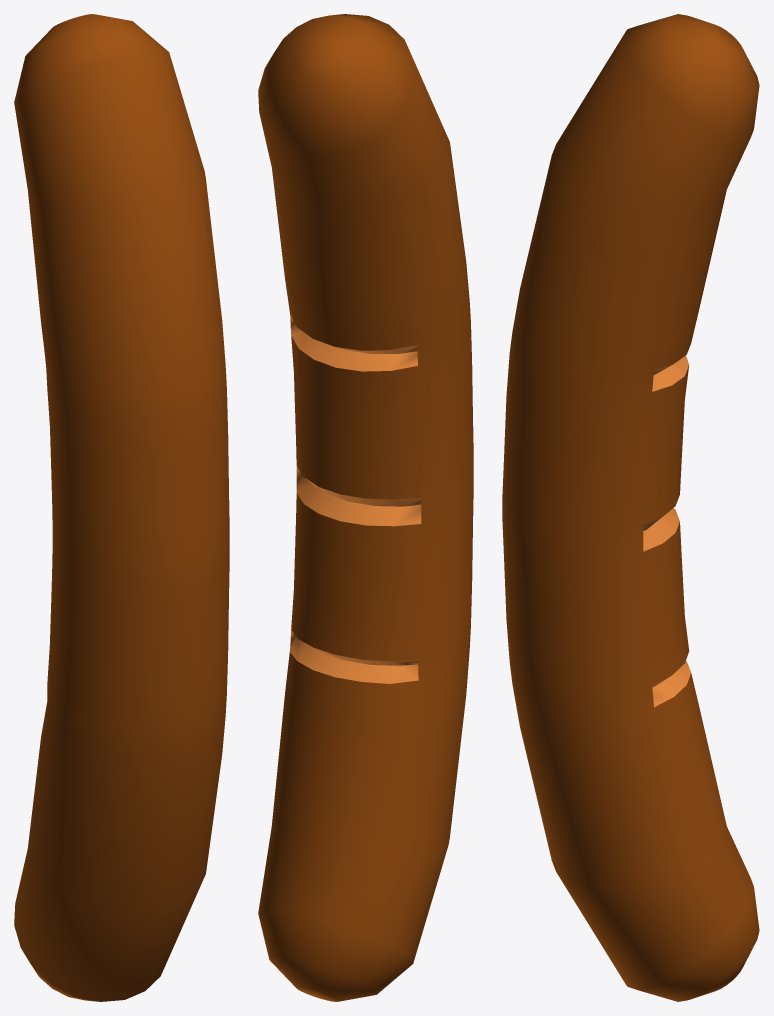
File: BIG SAUSAGE.fbx
The picture shows the model from 3 angles, left to right: view 1: azimuth 30°, elevation 25°; view 2: azimuth 150°, elevation 25°; view 3: azimuth 270°, elevation 25°; orthographic projection.
Visible parts, largest first — view 1: wuerstel; view 2: wuerstel; view 3: wuerstel.
Part boxes in pixels (x1,y1,x2,y2): wuerstel: (14,14,229,1001); wuerstel: (258,14,473,1001); wuerstel: (502,14,759,1001).
Bounding box in the file's own units: 164 × 965 × 232.
1 material, 1 textured.
